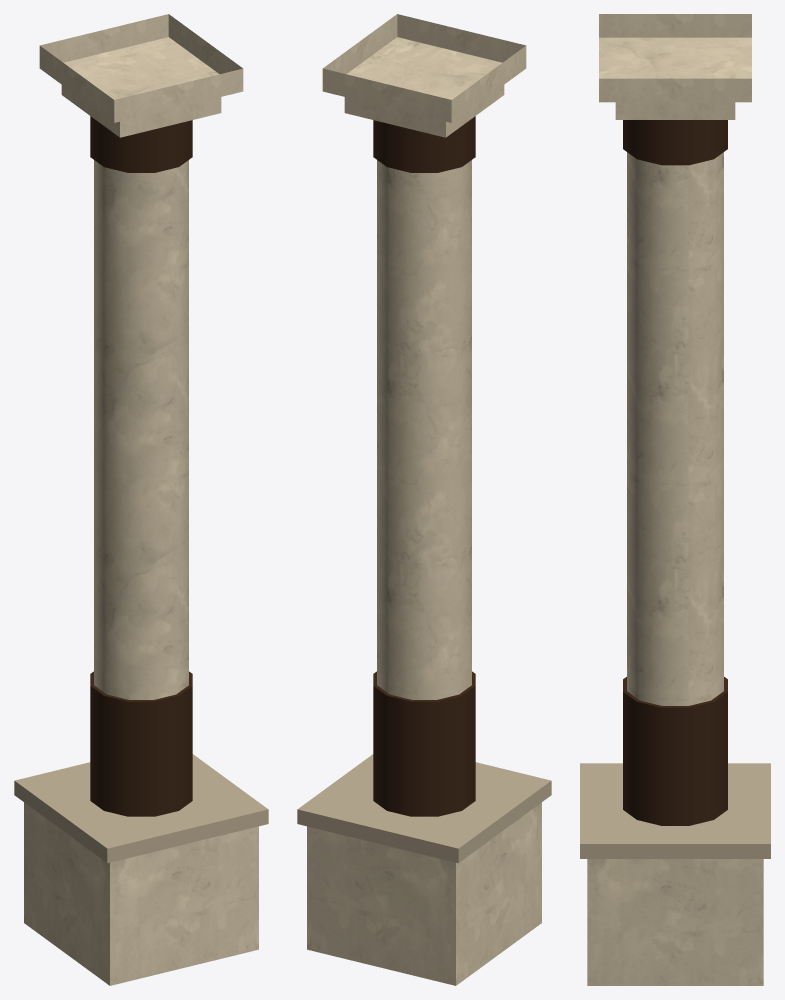
The model's file is bronze_column.glb.
3 views of the same model, side by side, from view 1: azimuth 30°, elevation 25°; view 2: azimuth 150°, elevation 25°; view 3: azimuth 270°, elevation 25° (orthographic). The views are drawn at different scales.
Visible parts, largest first — view 1: bronze_column; view 2: bronze_column; view 3: bronze_column.
Part boxes in pixels (x1,y1,x2,y2): bronze_column: [14, 14, 268, 985]; bronze_column: [297, 14, 551, 985]; bronze_column: [580, 14, 770, 985].
Size of the model in its own units: 1.61 by 8.4 by 1.61.
Materials: 3 (1 with a texture image).
